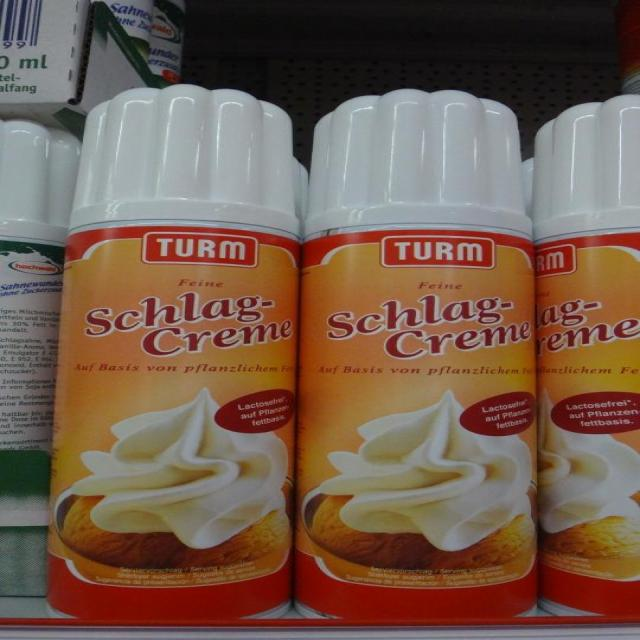cream: (47, 85, 299, 619), (295, 89, 535, 618), (533, 95, 639, 615), (0, 120, 78, 595), (98, 0, 152, 59)
